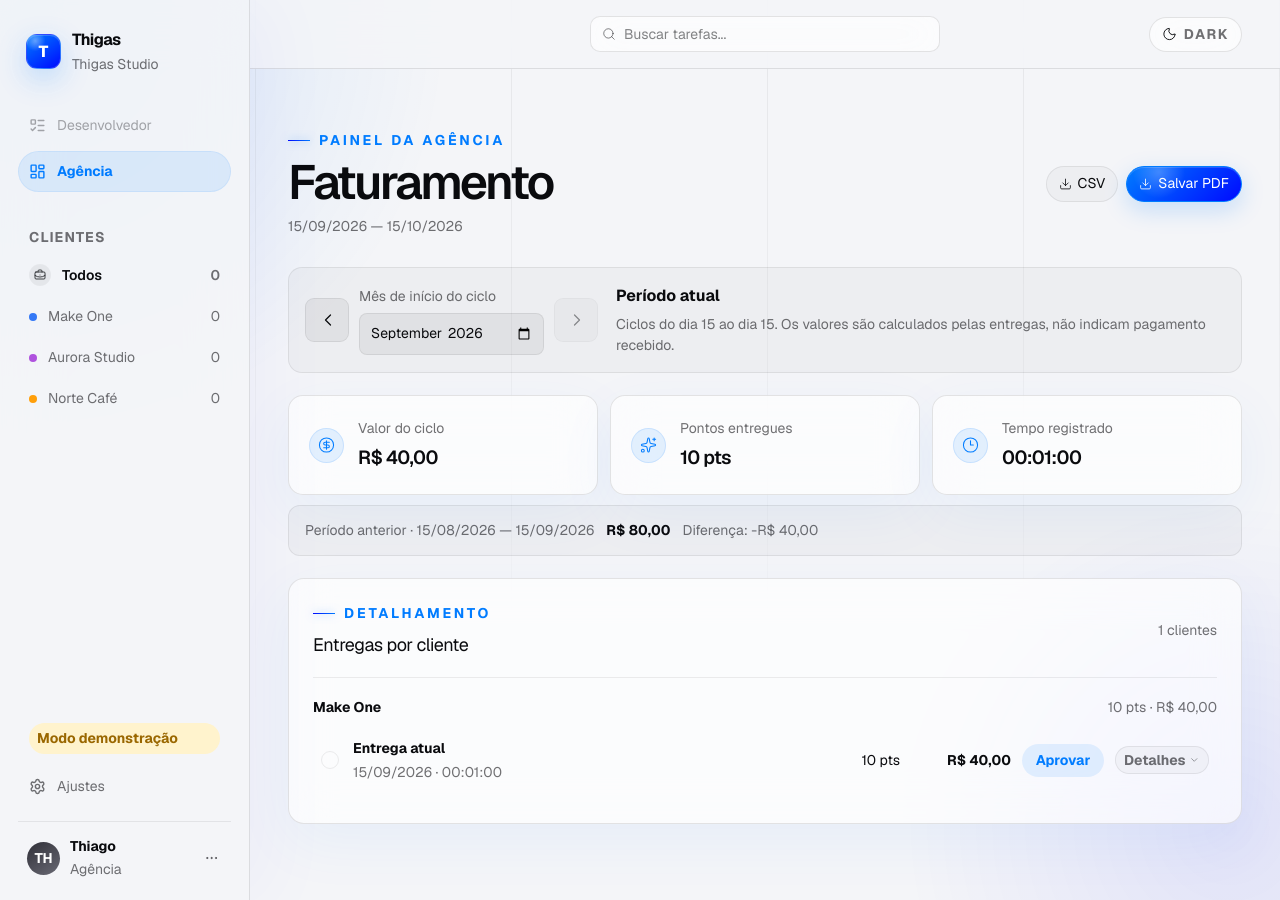
histórico de faturamento da agência › não inventa faturamento em períodos vazios
Replace the text in the field named "Mês do faturamento" with "2025-01": (452, 334) x1=359 y1=312 x2=544 y2=354
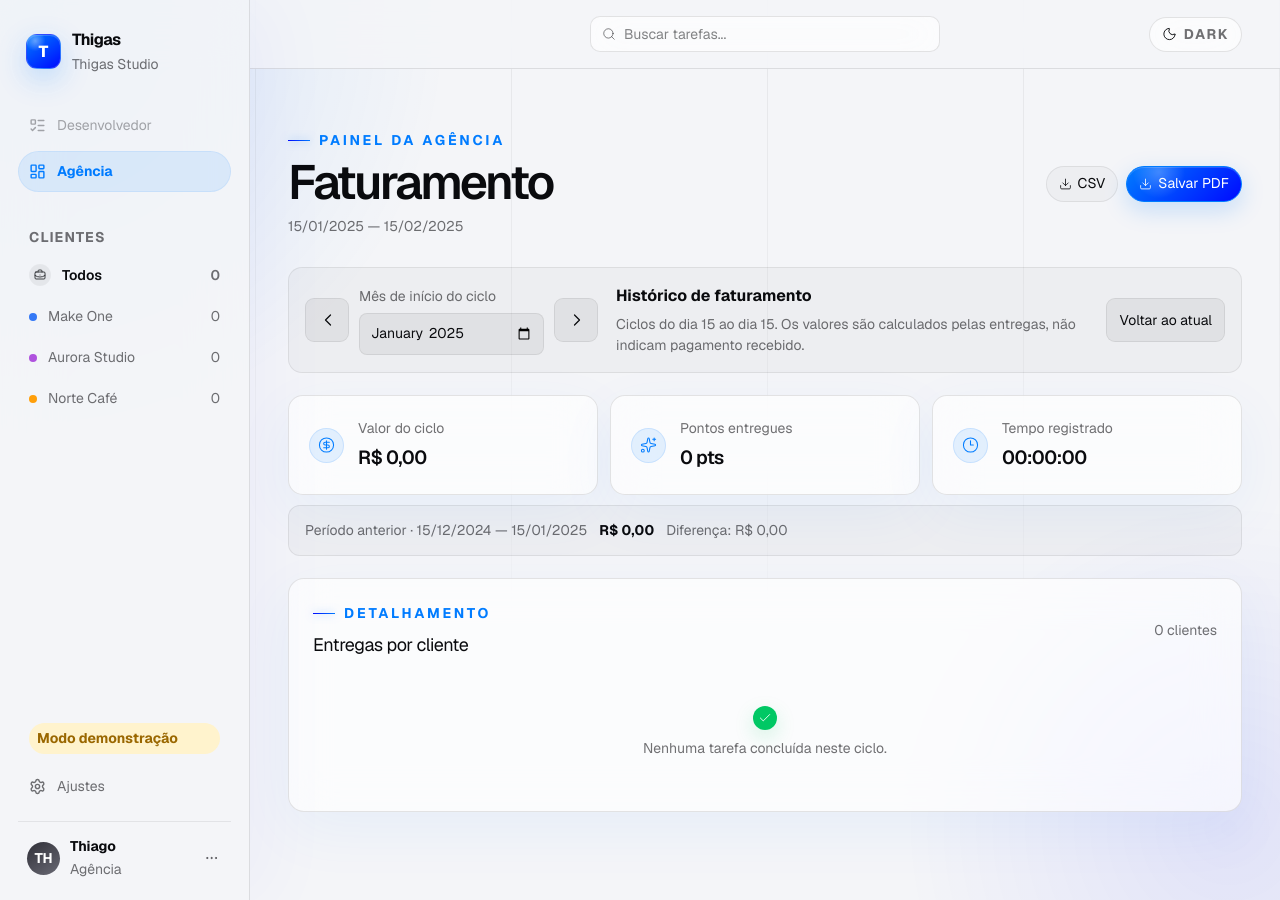
Check: the text "Nenhuma tarefa concluída neste ciclo." is shown, box x1=643 y1=738 x2=887 y2=758
Check: the text "R$ 0,00" below "Valor do ciclo" is shown, box x1=358 y1=445 x2=426 y2=470
